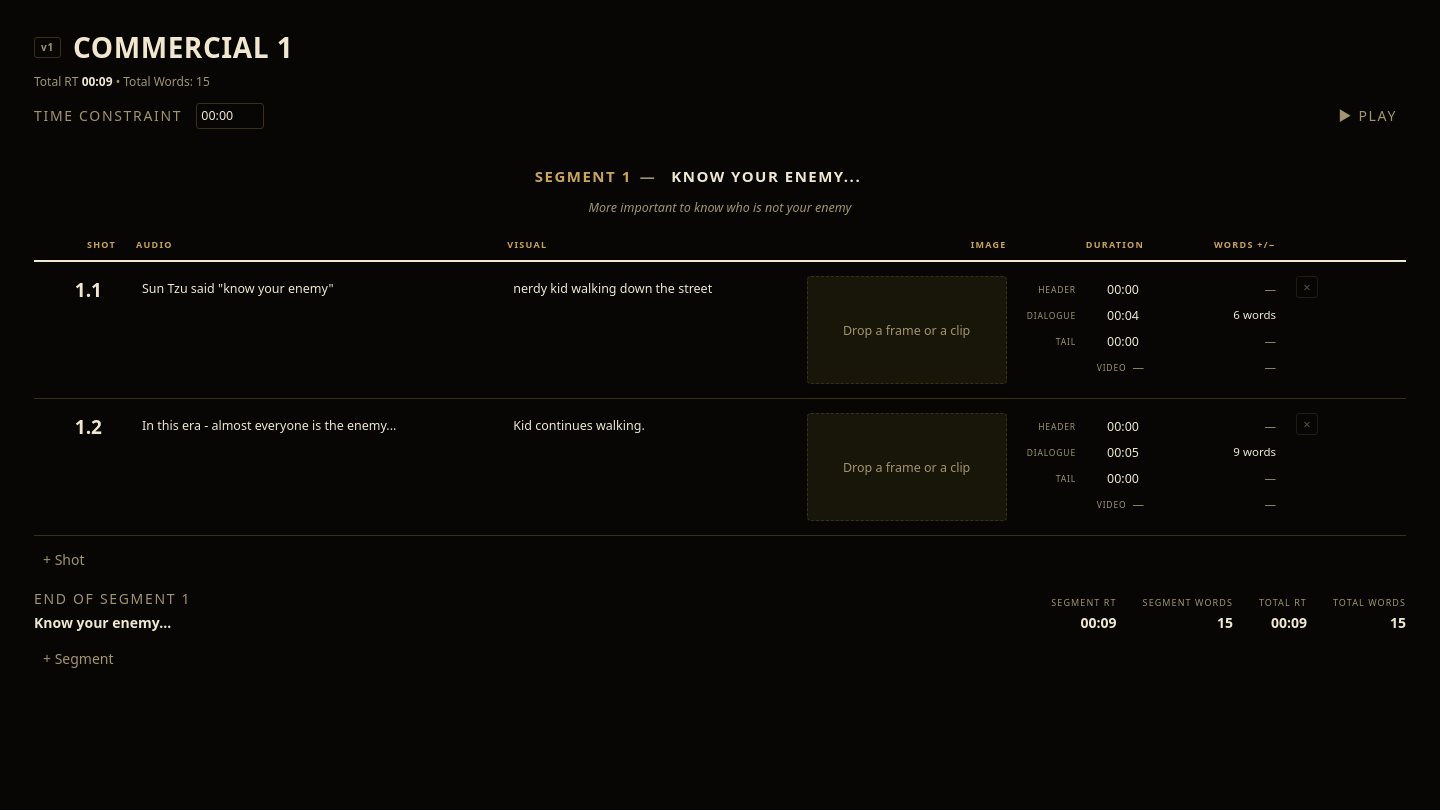
writing in the sheet › keeps the shot when the asking is answered the other way
Step 1. Click the button named "Close shot 1.2" → (1307,424), box x1=1296 y1=413 x2=1318 y2=435
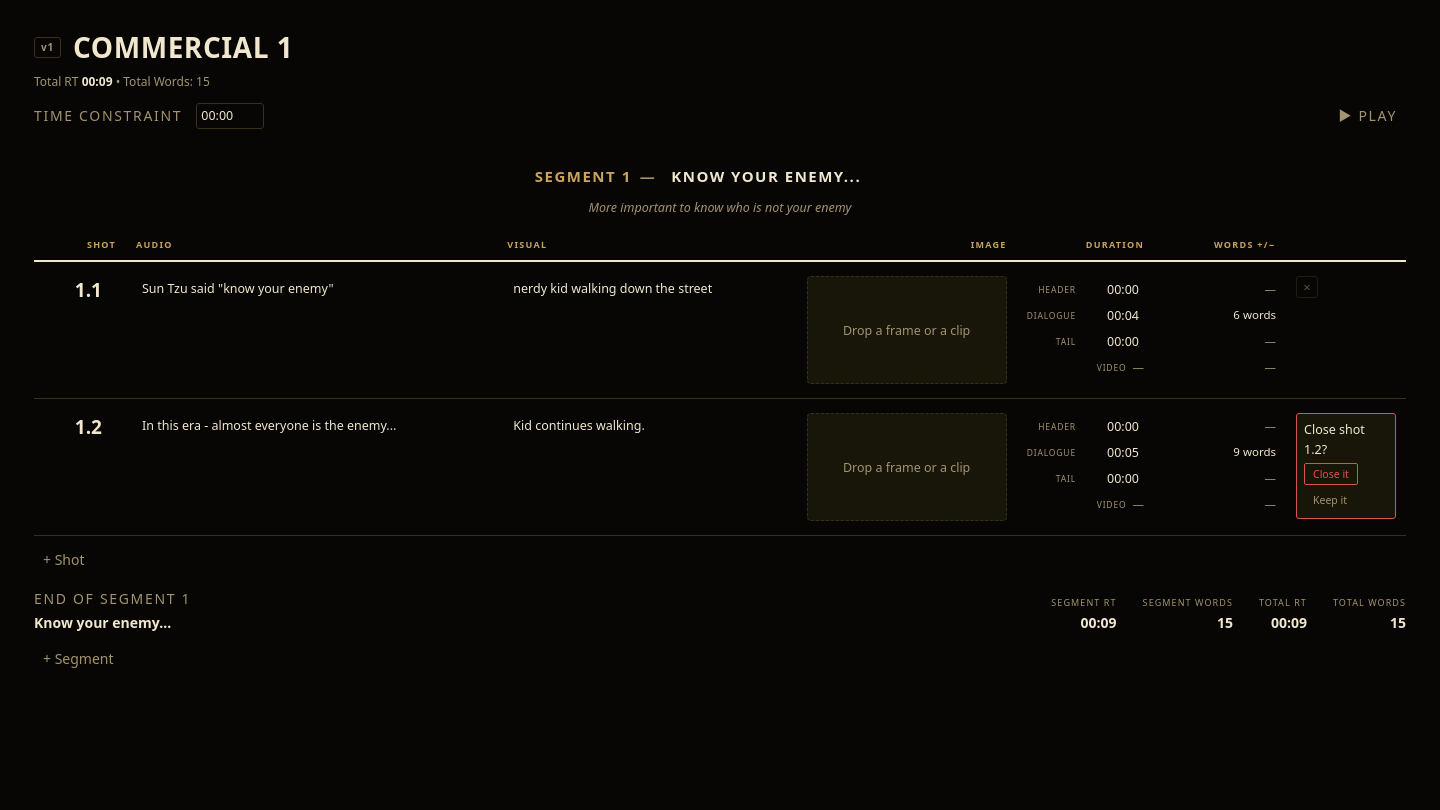
Step 2. Click the button "Keep it" → (1330,500), box x1=1304 y1=489 x2=1356 y2=512
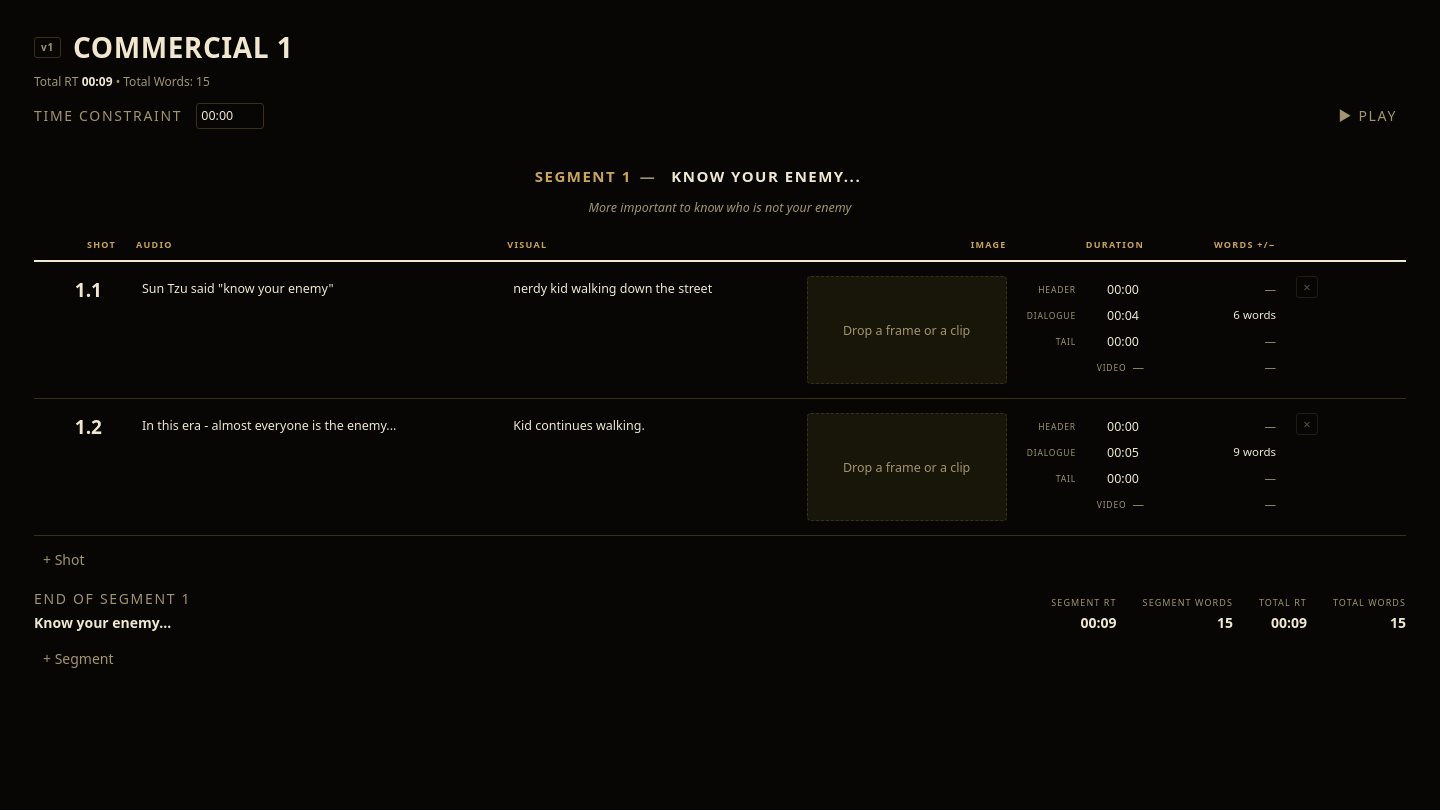
Expected: the number of rows with class "av-row" is 2, x1=34 y1=261 x2=1406 y2=399; x1=34 y1=399 x2=1406 y2=536
Expected: the button named "Close shot 1.2" is shown, x1=1296 y1=413 x2=1318 y2=435
